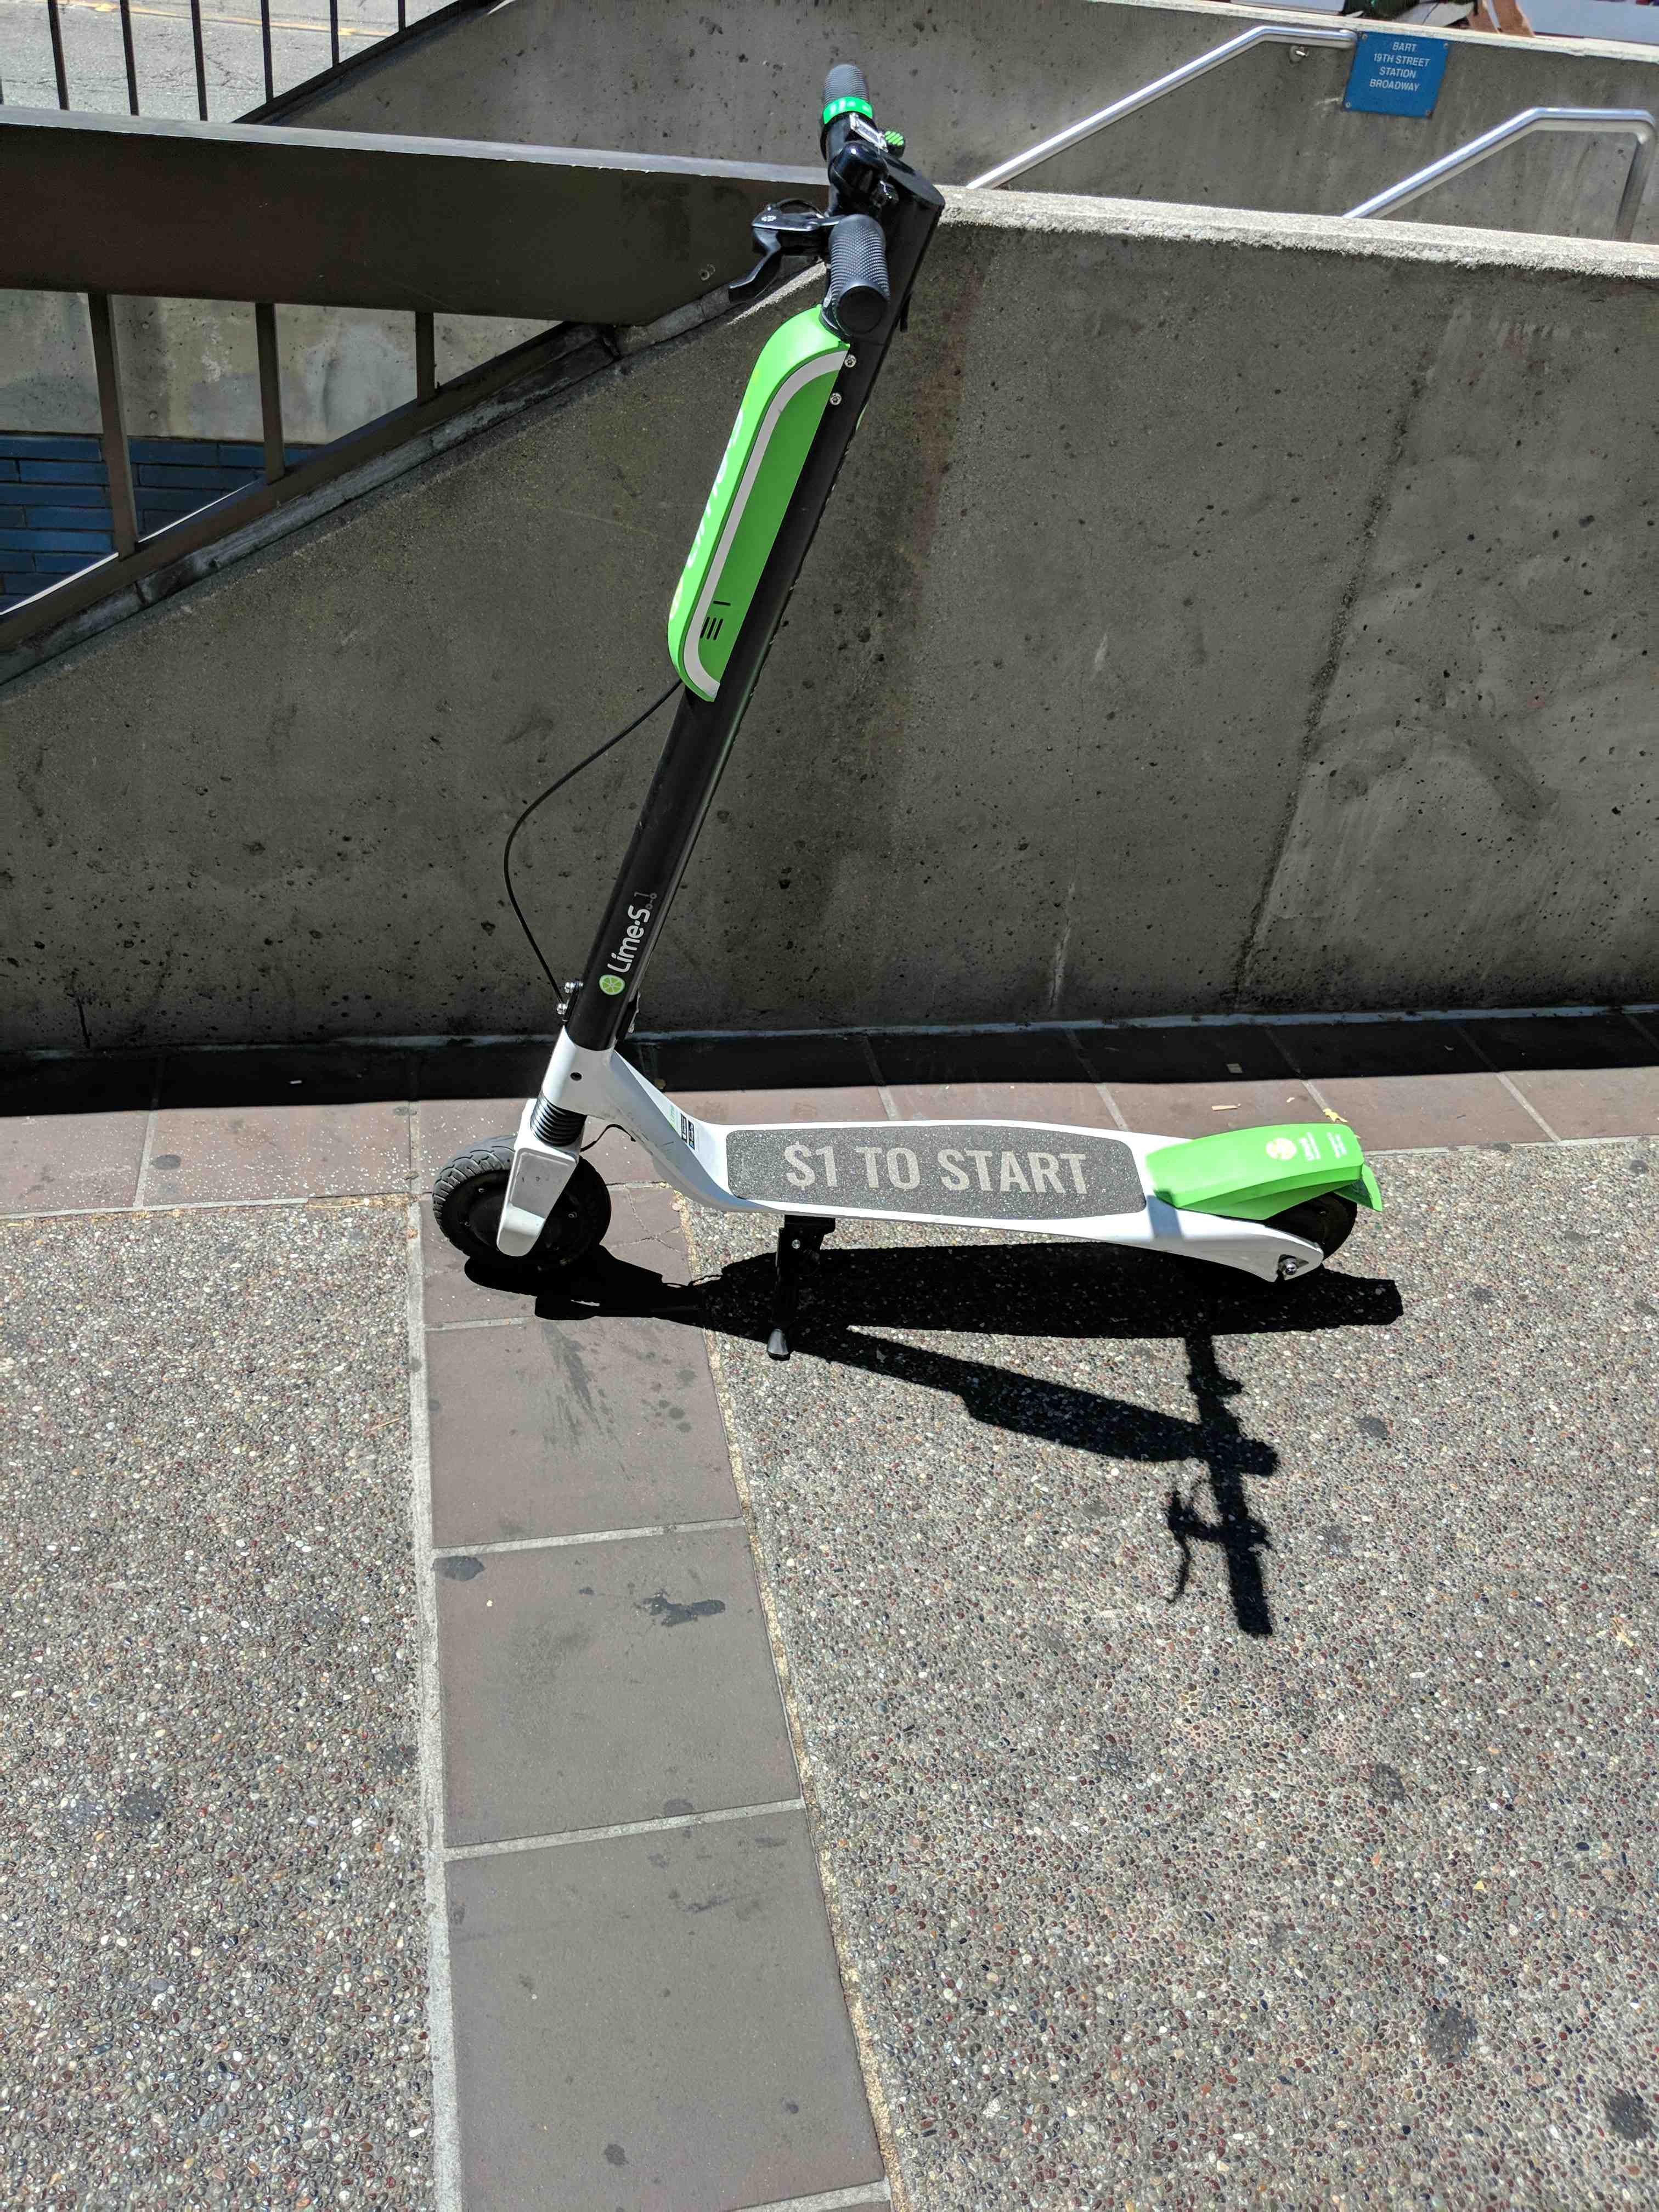scooter: (382, 56, 1445, 1362)
